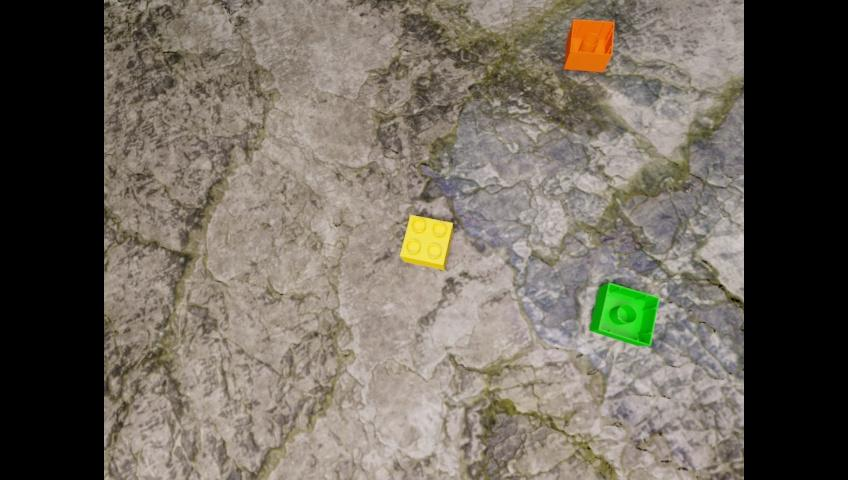2x2_green: (590, 283, 658, 345)
2x2_orange: (564, 19, 613, 71)
2x2_yellow: (400, 214, 452, 269)
